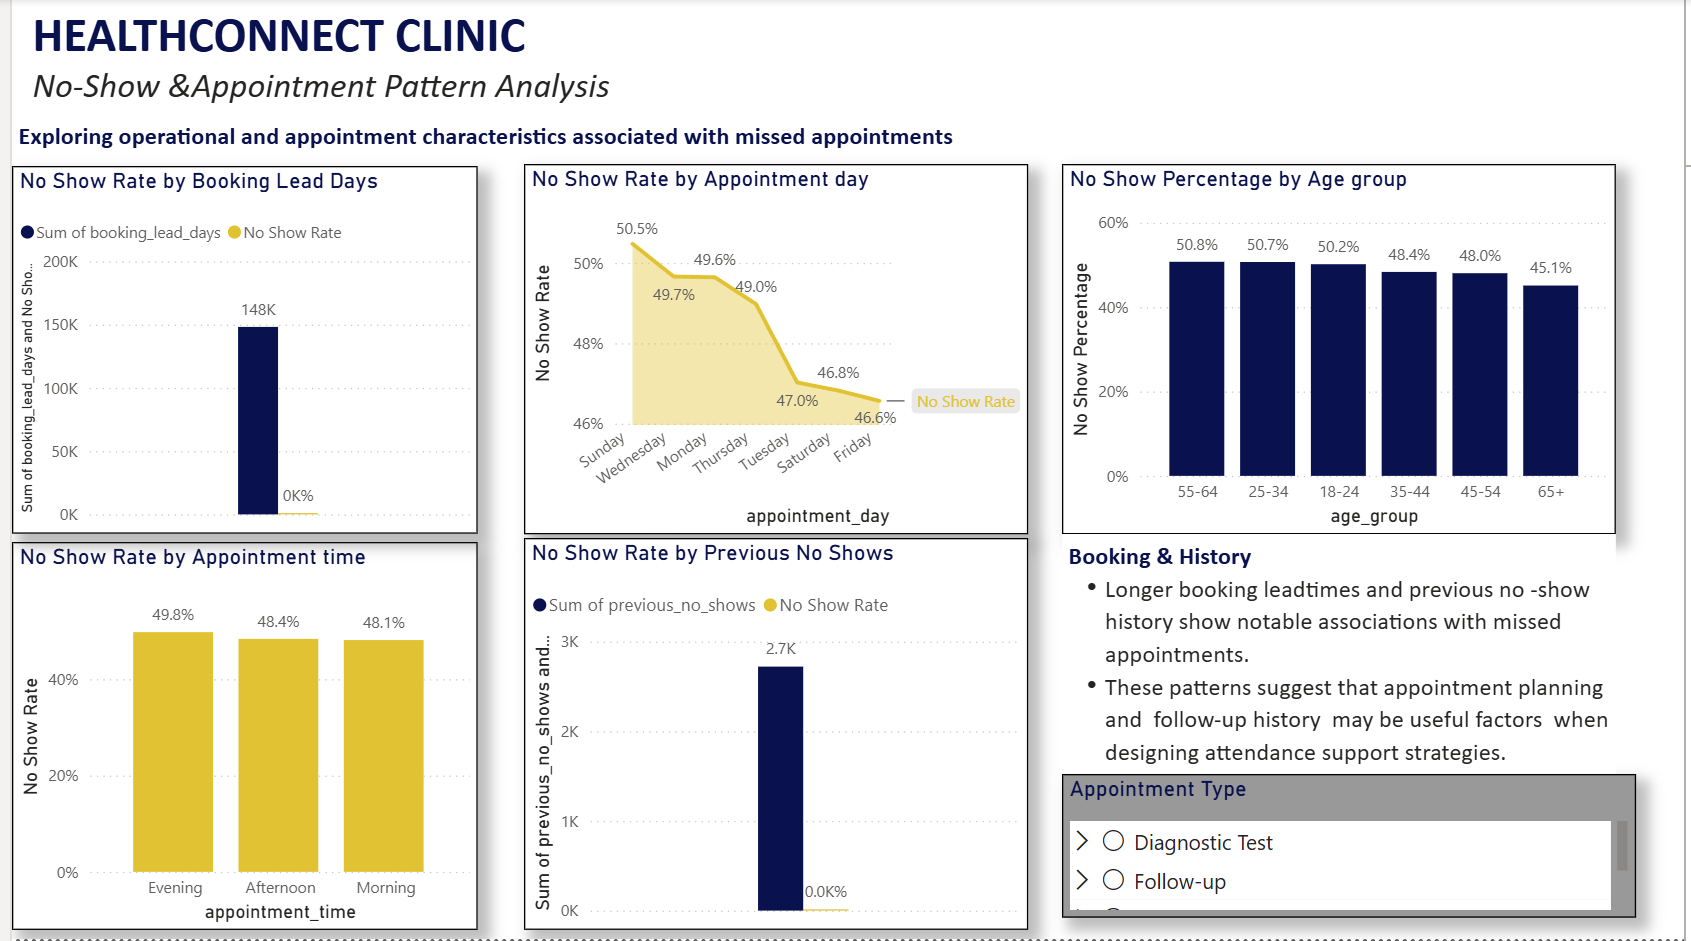

Layout of this report page (visuals, bound fields, positions):
{"tool":"powerbi","page":{"name":"Appointment & Risk Analysis","canvas":[1280,720],"ordinal":1},"visuals":[{"type":"textbox","box":[10.7,0,875.8,88.8],"z":0},{"type":"textbox","box":[0,88.8,914.1,39.8],"z":1000},{"type":"clusteredColumnChart","title":"No Show Rate by Appointment time","fields":{"Category":["HC Appointments.appointment_time"],"Y":["HC Appointments.No Show Rate"]},"box":[0,416.5,356.7,297],"z":2000},{"type":"lineChart","title":"No Show Rate by Appointment day","fields":{"Category":["HC Appointments.appointment_day"],"Y":["HC Appointments.No Show Rate"]},"box":[392,127.1,385.8,283.3],"z":3000},{"type":"clusteredColumnChart","title":" No Show Rate by Previous No Shows","fields":{"Y":["Sum(HC Appointments.previous_no_shows)","HC Appointments.No Show Rate"]},"box":[392,413.4,385.8,300.1],"z":4000},{"type":"listSlicer","title":"Appointment Type ","fields":{"Values":["HC Appointments.appointment_type","HC Appointments.appointment_date.Variation.Date Hierarchy.Year","HC Appointments.appointment_date.Variation.Date Hierarchy.Quarter","HC Appointments.appointment_date.Variation.Date Hierarchy.Month","HC Appointments.appointment_date.Variation.Date Hierarchy.Day","HC Appointments.appointment_date.Variation.Date Hierarchy.Year","HC Appointments.appointment_date.Variation.Date Hierarchy.Quarter","HC Appointments.appointment_date.Variation.Date Hierarchy.Month","HC Appointments.appointment_date.Variation.Date Hierarchy.Day"]},"box":[803.8,594.1,439.4,119.4],"z":5000},{"type":"clusteredColumnChart","title":"No Show Rate by Booking Lead Days","fields":{"Y":["Sum(HC Appointments.booking_lead_days)","HC Appointments.No Show Rate"]},"box":[0,128.6,356.7,281.7],"z":6000},{"type":"clusteredColumnChart","title":"No Show Percentage by Age group","fields":{"Category":["HC Appointments.age_group"],"Y":["HC Appointments.No Show Percentage"]},"box":[803.8,127.1,424.1,283.3],"z":7000},{"type":"textbox","box":[803.8,410.3,424.1,183.7],"z":8000}]}

Visuals, with their boxes in screenshot pixels (x1, y1, x2, y2), scaled from the page's 1280x720 canvas onto the 1691x941 screenshot:
textbox: (left=14, top=0, right=1171, bottom=116)
textbox: (left=0, top=116, right=1208, bottom=168)
"No Show Rate by Appointment time" clusteredColumnChart: (left=0, top=544, right=471, bottom=933)
"No Show Rate by Appointment day" lineChart: (left=518, top=166, right=1028, bottom=536)
" No Show Rate by Previous No Shows" clusteredColumnChart: (left=518, top=540, right=1028, bottom=933)
"Appointment Type " listSlicer: (left=1062, top=776, right=1642, bottom=933)
"No Show Rate by Booking Lead Days" clusteredColumnChart: (left=0, top=168, right=471, bottom=536)
"No Show Percentage by Age group" clusteredColumnChart: (left=1062, top=166, right=1622, bottom=536)
textbox: (left=1062, top=536, right=1622, bottom=776)
